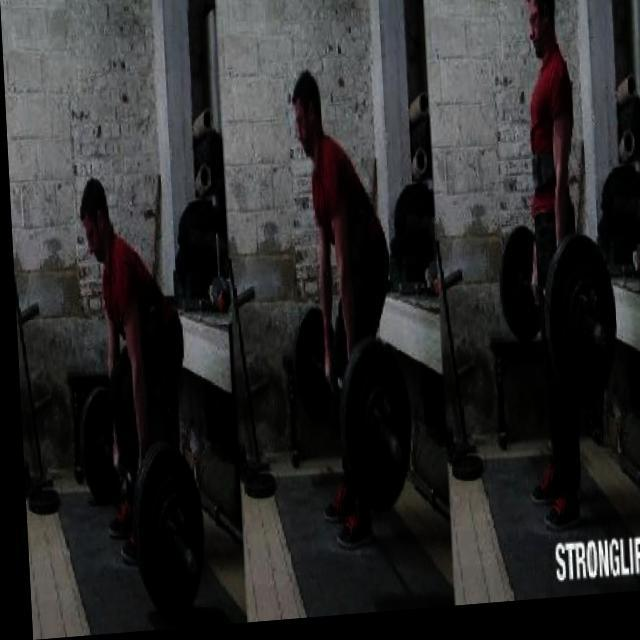barbell: (121, 444, 210, 626), (329, 342, 414, 529), (536, 239, 624, 417)
